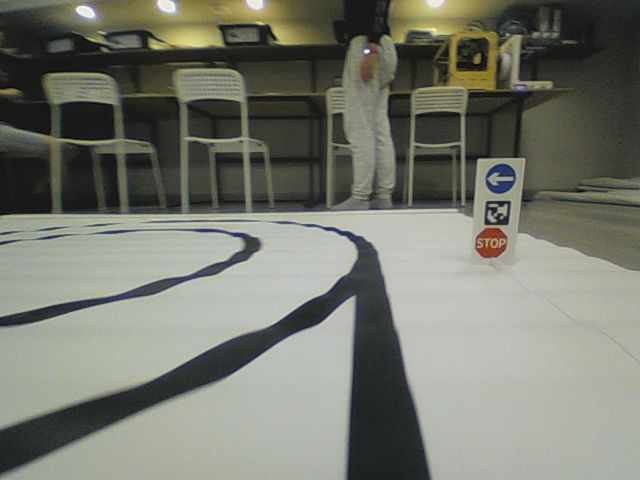Stop: (473, 226, 508, 260)
